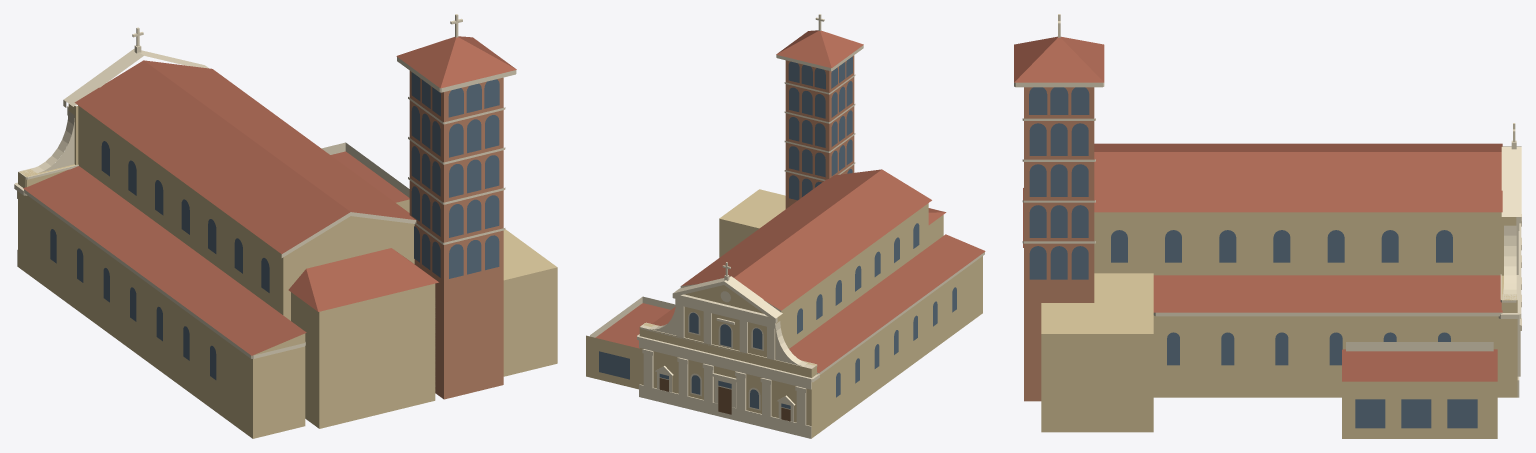
Rendered from nash-cathedral-of-the-incarnation.glb.
3 renders of one model, left to right at view 1: azimuth 30°, elevation 25°; view 2: azimuth 150°, elevation 25°; view 3: azimuth 270°, elevation 25°, orthographic. The views are drawn at different scales.
Visible parts, largest first — view 1: Cathedral of the Incarnation; view 2: Cathedral of the Incarnation; view 3: Cathedral of the Incarnation.
Boxes of the visible parts, x1,y1,x2,y2 form: Cathedral of the Incarnation: [14, 14, 557, 438]; Cathedral of the Incarnation: [586, 14, 985, 438]; Cathedral of the Incarnation: [1014, 14, 1521, 438].
Size of the model in its own units: 37.85 by 40.9 by 50.62.
